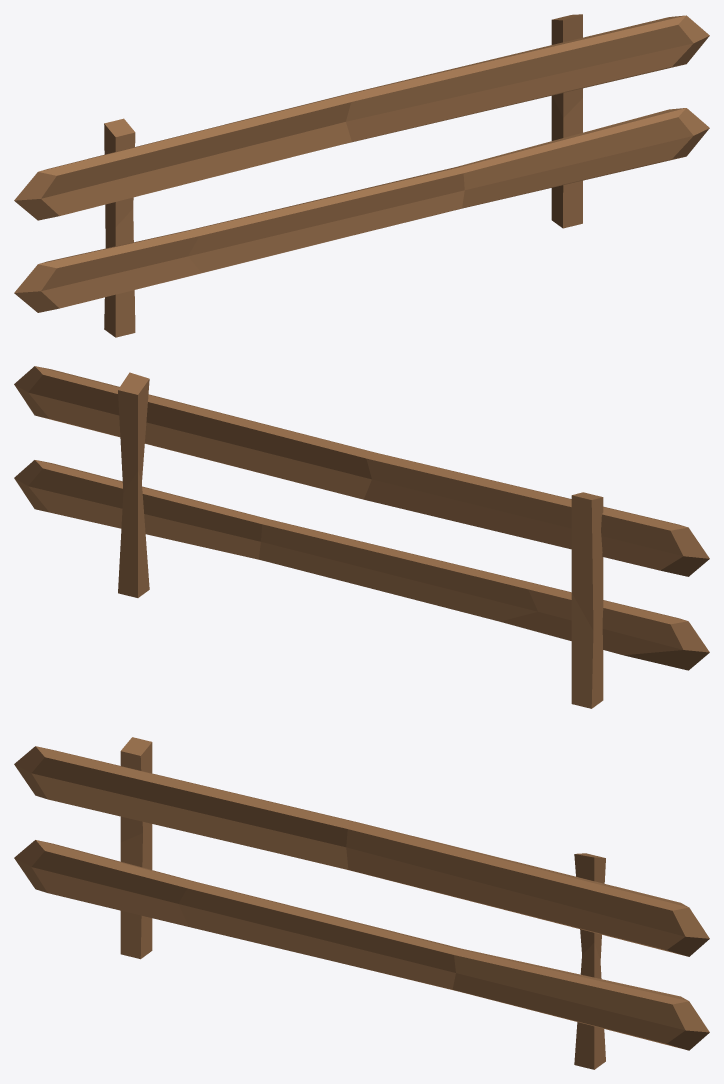
File: Fence_3.fbx
The picture shows the model from 3 angles, top to bottom: view 1: azimuth 30°, elevation 25°; view 2: azimuth 150°, elevation 25°; view 3: azimuth 330°, elevation 25°; orthographic projection.
Visible parts, largest first — view 1: Fence3_mesh; view 2: Fence3_mesh; view 3: Fence3_mesh.
Boxes of the visible parts, left/top/right/bottom form: Fence3_mesh: left=14, top=14, right=709, bottom=337; Fence3_mesh: left=14, top=366, right=709, bottom=708; Fence3_mesh: left=14, top=737, right=709, bottom=1069.
Size of the model in its own units: 336 by 97.4 by 18.55.
